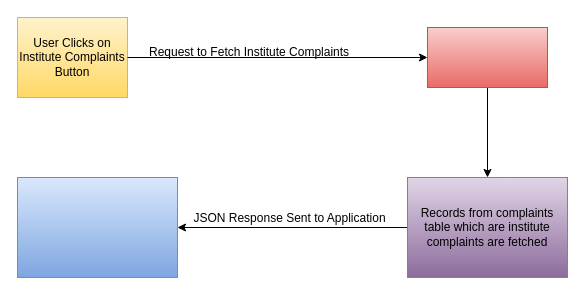
The diagram is 585 pixels wide and 295 high, and some of its shapes have lost their labels. The box of each missing label's shape, as (x1, y1, x2, y2) in pixels:
Institute Complaints API: (426, 26, 548, 88)
JSON response is parsed and Complaints are displayed in Tabular Format: (16, 176, 178, 278)
